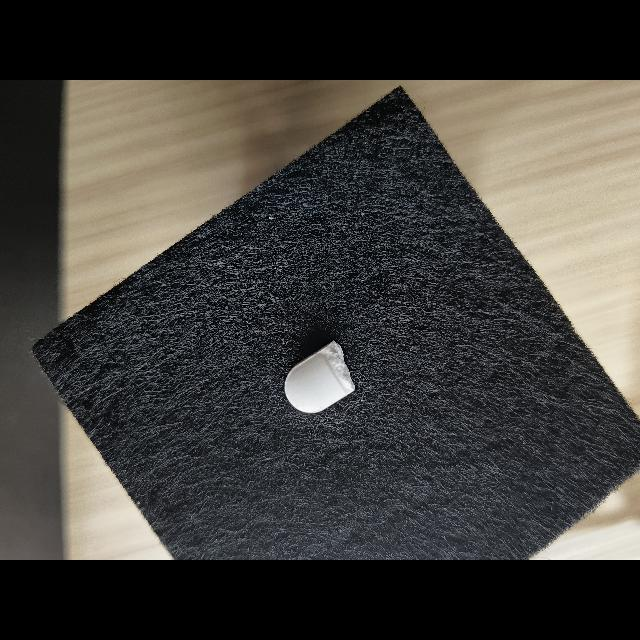Chipped Pill: (284, 340, 355, 413)
